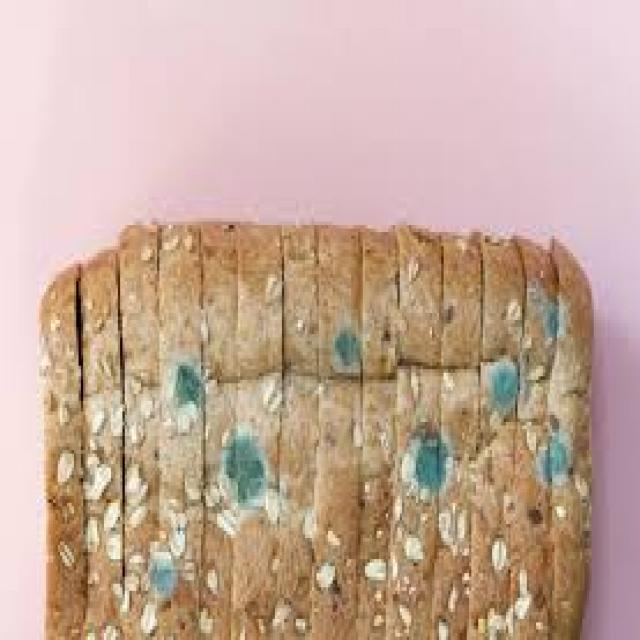organic waste: (37, 218, 594, 637)
